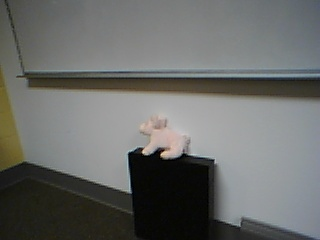piggy: (138, 113, 191, 160)
